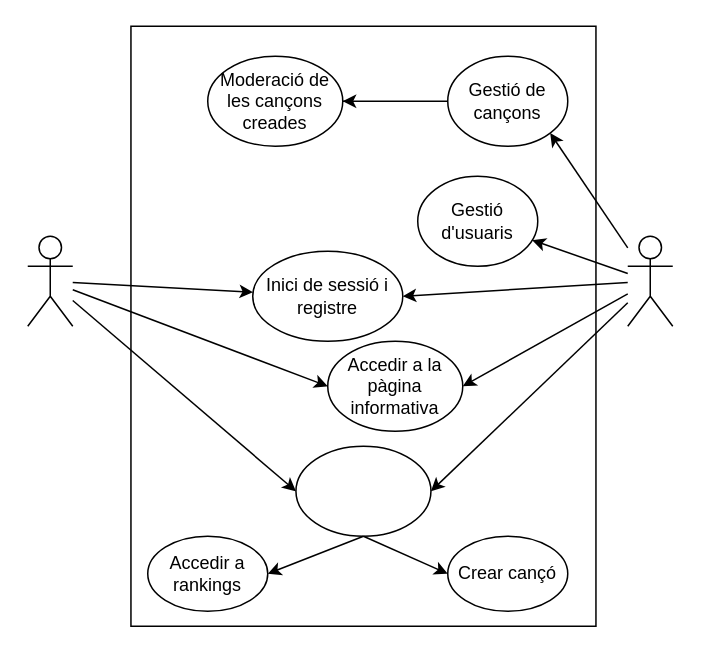
This 701x653 diagram has some shape labels left out. The shapes that lost their labels are listed below. From the top down, each one's centre as x and y in pixels, then its label:
the point at 49,280: usuari
the point at 649,280: admin
the point at 362,490: Accés a cançons
